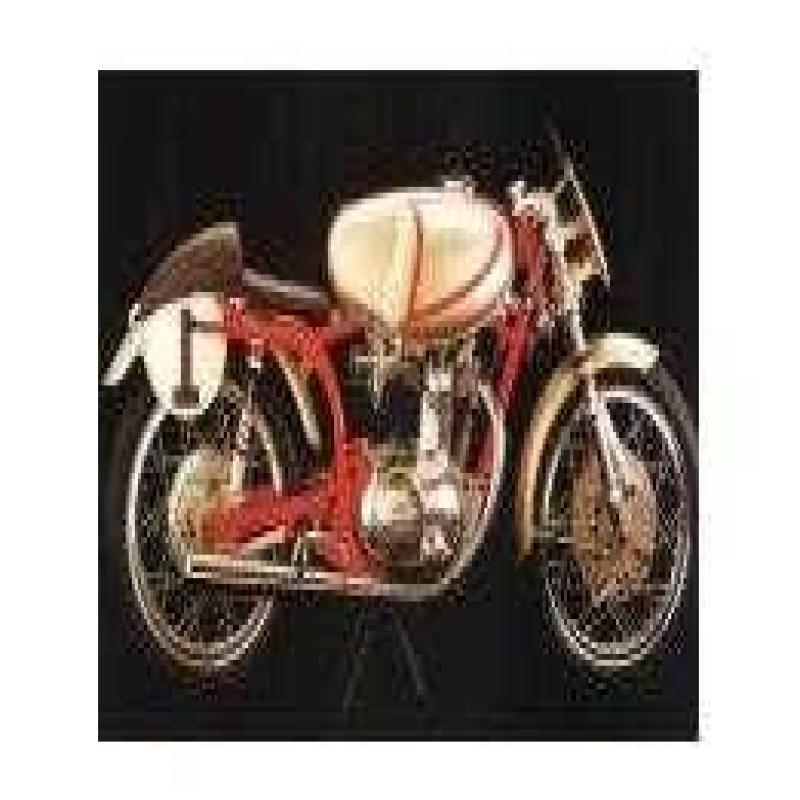bike: (120, 117, 702, 694)
